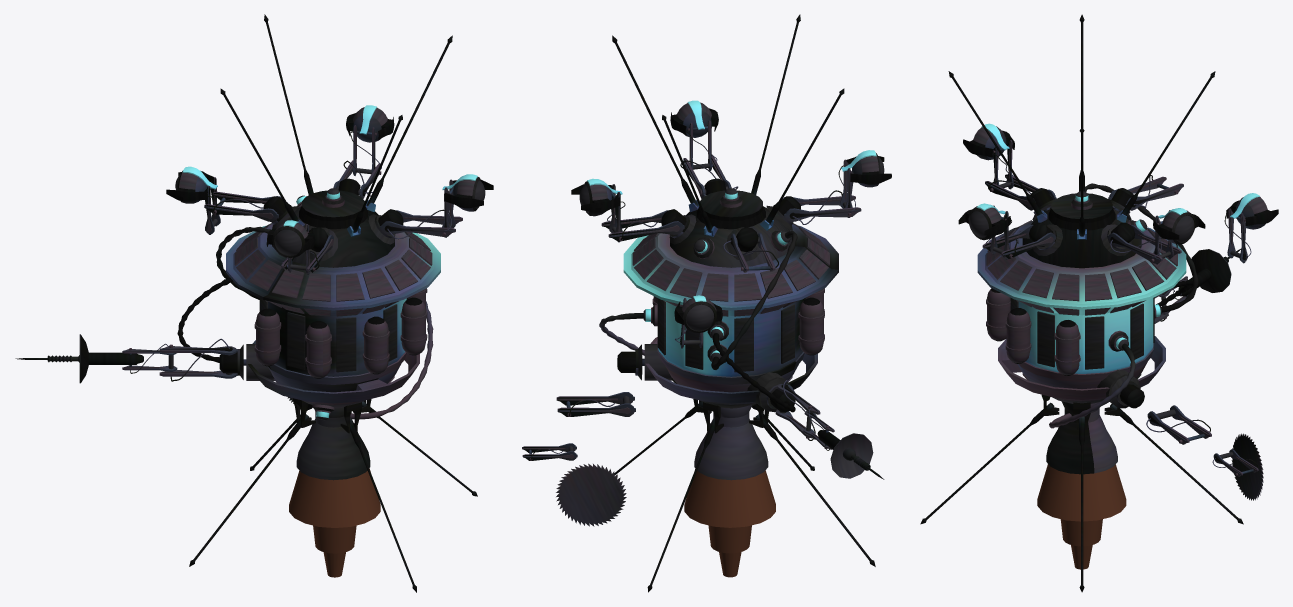
The model's file is Luna_robot.glb.
3 views of the same model, side by side, from view 1: azimuth 30°, elevation 25°; view 2: azimuth 150°, elevation 25°; view 3: azimuth 270°, elevation 25° (orthographic). The views are drawn at different scales.
Visible parts, largest first — view 1: Drone_LP, Exhaust, RamieB, RamieA; view 2: Drone_LP, Exhaust, Box002, Box005, RamieB, RamieA, Box004; view 3: Drone_LP, Exhaust, Box005, RamieB, Box002, RamieA, Box003.
Part boxes in pixels (left/top/right/bottom): Drone_LP: left=15, top=35, right=493, bottom=592; Exhaust: left=289, top=468, right=380, bottom=577; RamieB: left=166, top=166, right=220, bottom=234; RamieA: left=204, top=191, right=287, bottom=221; Drone_LP: left=571, top=14, right=891, bottom=592; Exhaust: left=684, top=468, right=775, bottom=577; Box002: left=556, top=463, right=626, bottom=526; Box005: left=522, top=344, right=642, bottom=460; RamieB: left=674, top=295, right=722, bottom=348; RamieA: left=723, top=233, right=778, bottom=272; Box004: left=766, top=88, right=844, bottom=224; Drone_LP: left=920, top=71, right=1243, bottom=592; Exhaust: left=1037, top=464, right=1126, bottom=569; Box005: left=1110, top=375, right=1258, bottom=476; RamieB: left=1224, top=193, right=1278, bottom=263; Box002: left=1231, top=433, right=1263, bottom=500; RamieA: left=1108, top=175, right=1183, bottom=210; Box003: left=1120, top=71, right=1215, bottom=215.
Size of the model in its own units: 2.95 by 3.81 by 2.48.
Materials: 2 (1 with a texture image).
